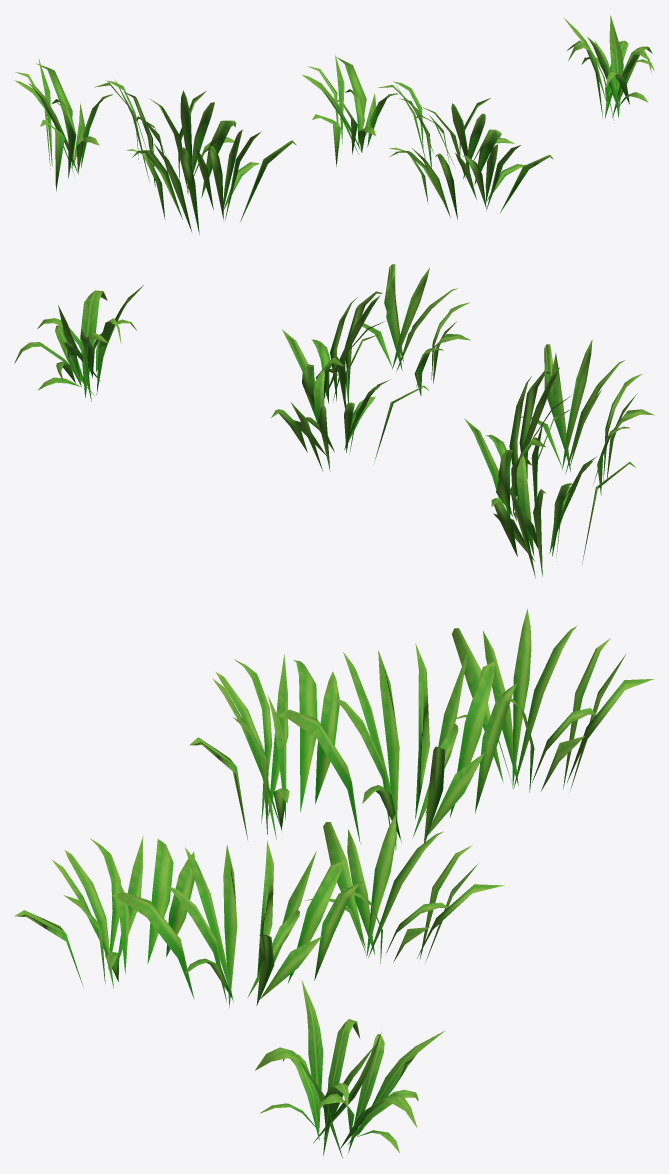
Rendered from huahua_12.fbx.
3 views of the same model, one above another, from view 1: azimuth 30°, elevation 25°; view 2: azimuth 150°, elevation 25°; view 3: azimuth 270°, elevation 25° (orthographic). The views are drawn at different scales.
Parts seen in each view (by area): view 1: polySurface6311; view 2: polySurface6311; view 3: polySurface6311.
Part boxes in pixels (box(x1,y1,x2,y2)): polySurface6311: box(14, 15, 654, 234); polySurface6311: box(14, 264, 654, 578); polySurface6311: box(14, 608, 654, 1158).
Bounding box in the file's own units: 611 × 136 × 396.
